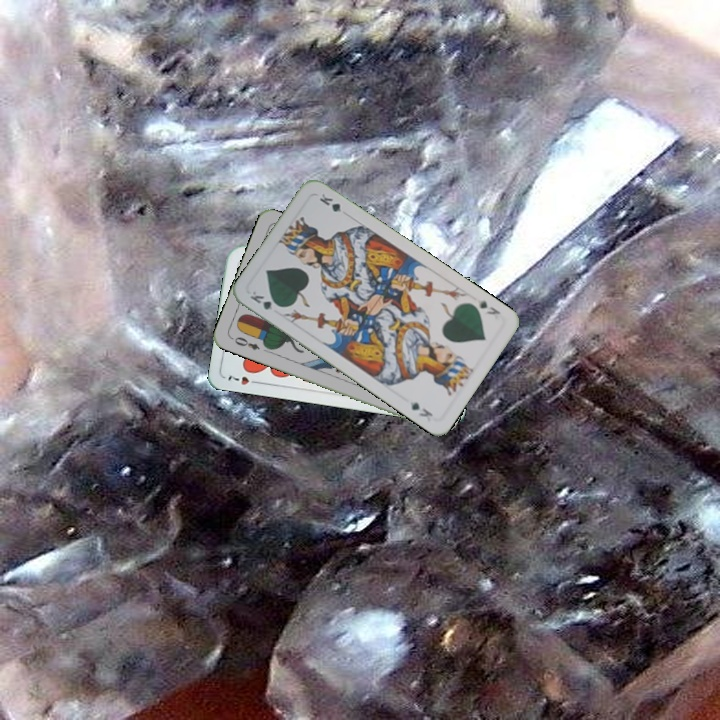EO: (227, 333, 262, 353)
GK: (246, 287, 284, 313), (473, 295, 503, 318)
H7: (223, 372, 263, 387)
